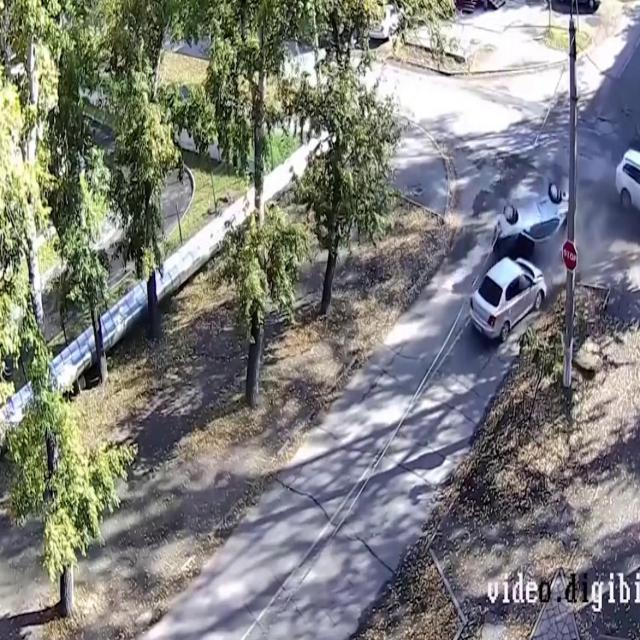accident: (467, 173, 579, 356), (604, 137, 640, 253)
